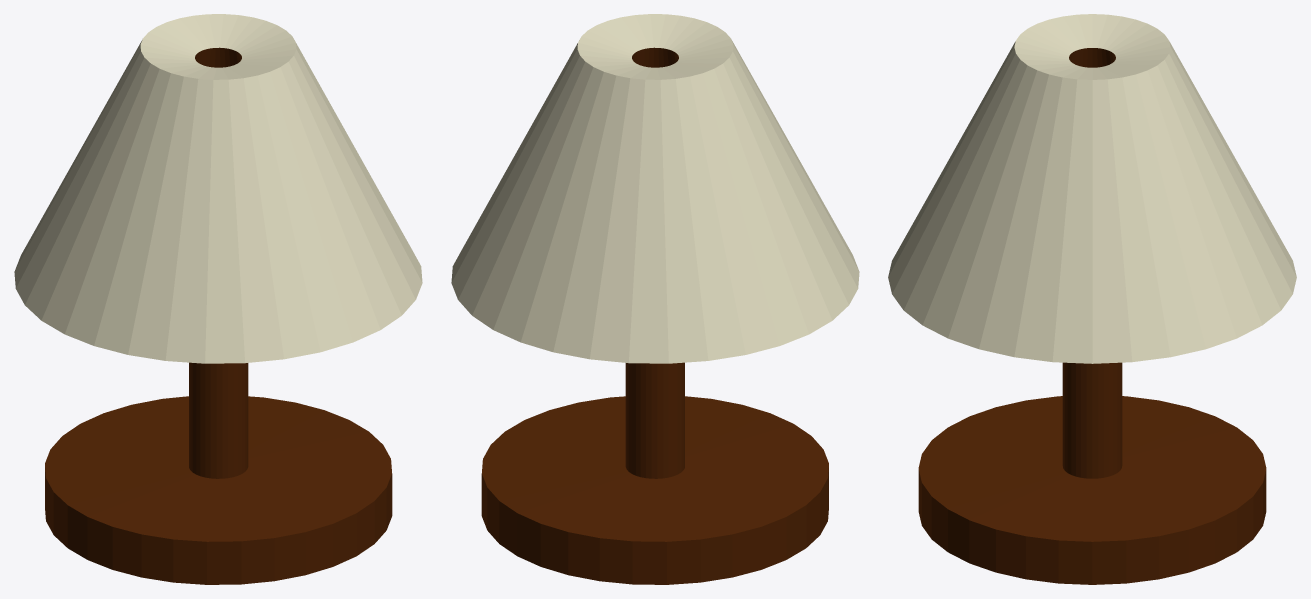
File: Abajur1.fbx
The picture shows the model from 3 angles, left to right: view 1: azimuth 30°, elevation 25°; view 2: azimuth 150°, elevation 25°; view 3: azimuth 270°, elevation 25°; orthographic projection.
Parts seen in each view (by area): view 1: Cylinder.033; view 2: Cylinder.033; view 3: Cylinder.033.
Boxes of the visible parts, x1,y1,x2,y2 form: Cylinder.033: [14, 14, 422, 584]; Cylinder.033: [451, 14, 859, 584]; Cylinder.033: [888, 14, 1296, 584].
Size of the model in its own units: 235 by 295 by 235.
